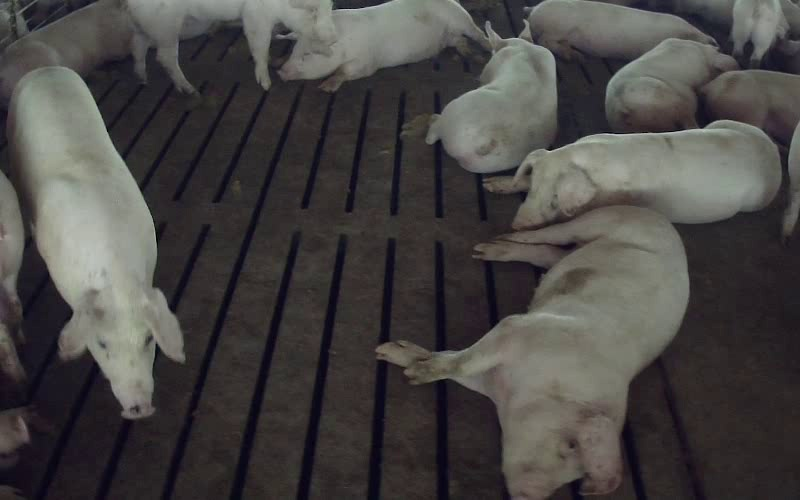pig: (376, 207, 688, 499), (8, 68, 184, 416), (485, 120, 781, 229), (426, 22, 556, 172), (128, 0, 335, 93), (278, 0, 489, 91), (605, 38, 738, 132), (527, 0, 715, 59), (701, 70, 799, 143)
